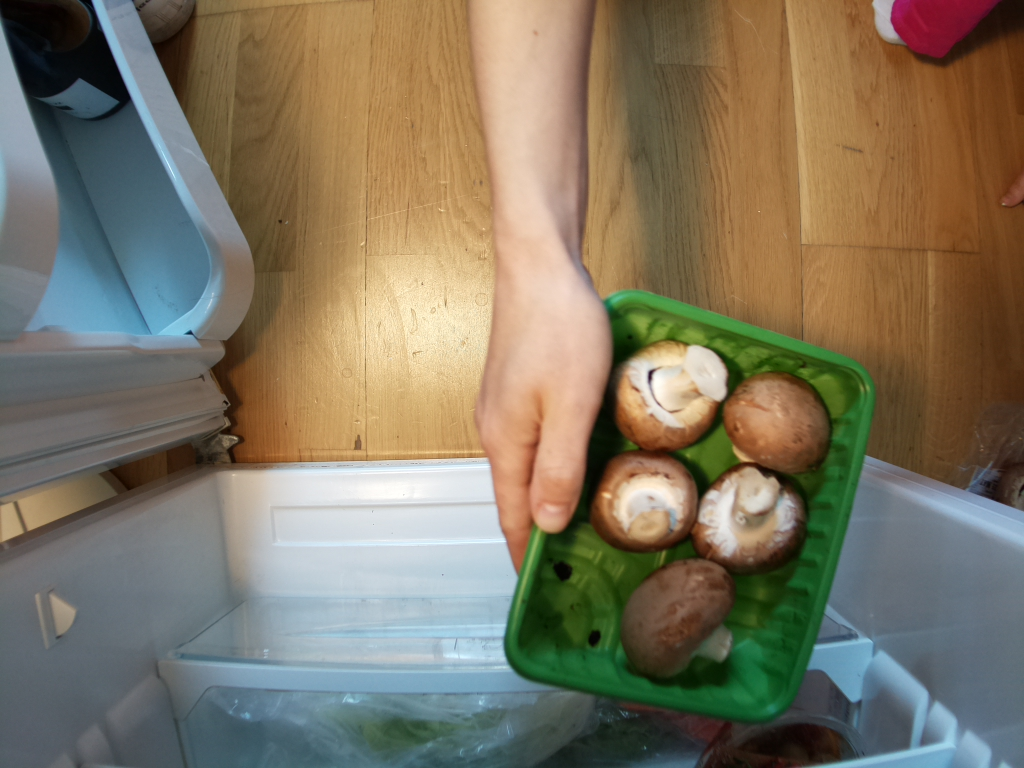mushrooms: (506, 288, 876, 728)
